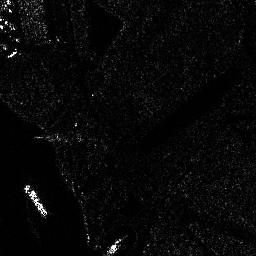ship: (24, 183, 49, 217)
